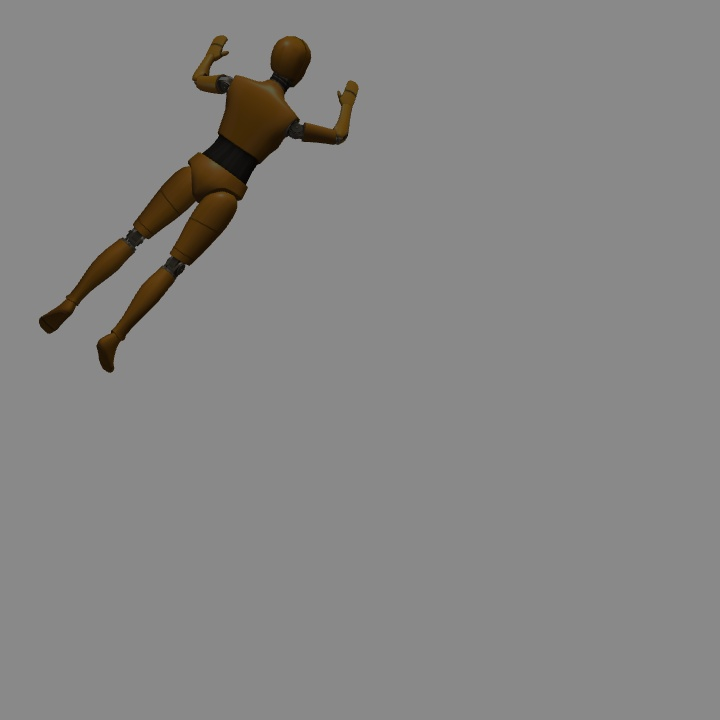victim: (37, 36, 360, 373)
